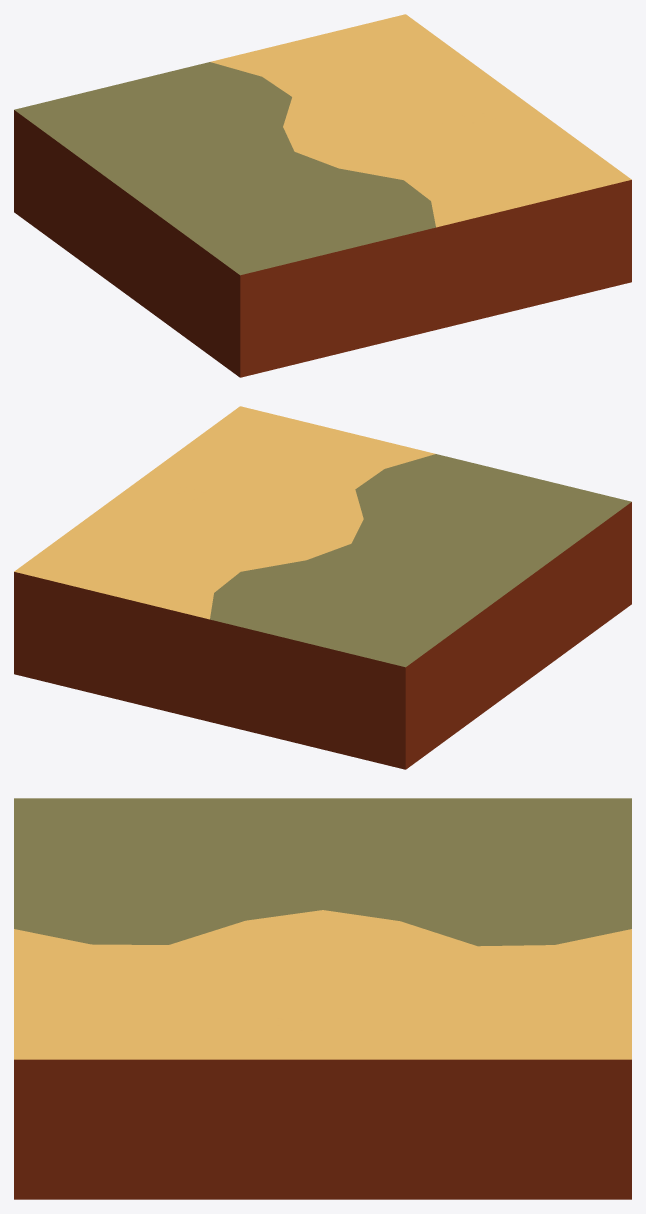
The model's file is grass_to_sand.fbx.
The picture shows the model from 3 angles, top to bottom: view 1: azimuth 30°, elevation 25°; view 2: azimuth 150°, elevation 25°; view 3: azimuth 270°, elevation 25°; orthographic projection. The views are drawn at different scales.
Parts seen in each view (by area): view 1: grass_to_sand; view 2: grass_to_sand; view 3: grass_to_sand.
Part boxes in pixels (box(x1,y1,x2,y2)): grass_to_sand: box(14, 14, 631, 377); grass_to_sand: box(14, 406, 631, 769); grass_to_sand: box(14, 798, 631, 1199).
Bounding box in the file's own units: 200 × 50 × 200.
1 material, 1 textured.
